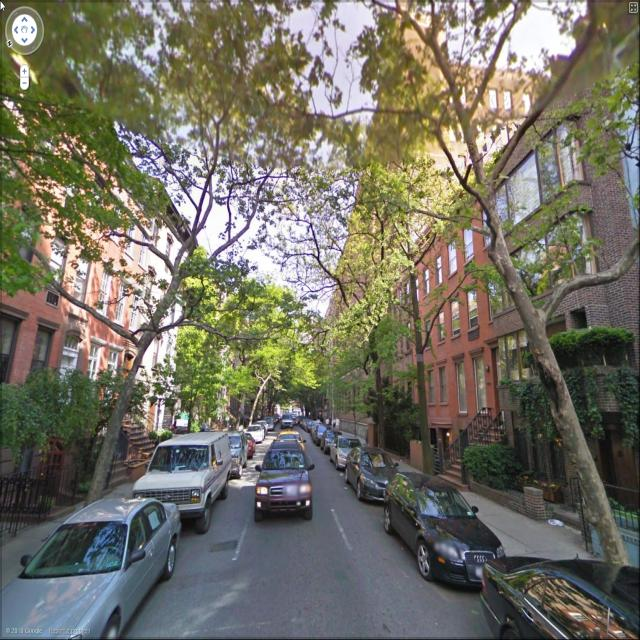b_2: (506, 12, 640, 471), (325, 63, 434, 447), (382, 170, 510, 466), (0, 38, 90, 402), (42, 161, 144, 464), (187, 253, 274, 462), (130, 176, 190, 462), (266, 297, 352, 434)
